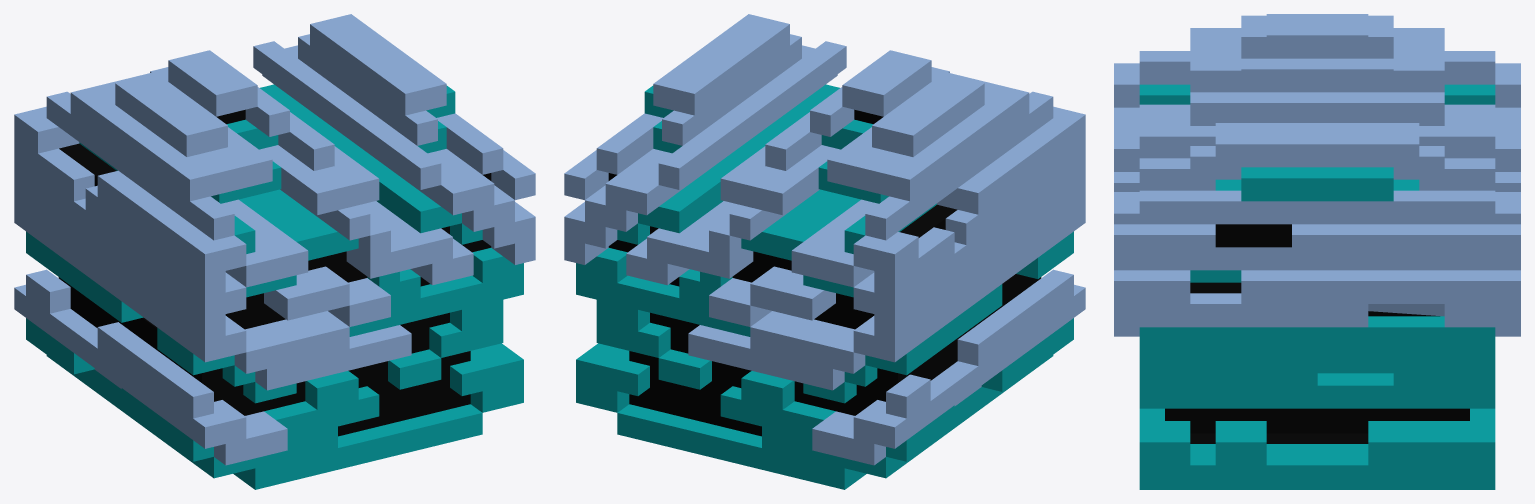
The model's file is br-m-rock2-aqua.fbx.
3 views of the same model, side by side, from view 1: azimuth 30°, elevation 25°; view 2: azimuth 150°, elevation 25°; view 3: azimuth 270°, elevation 25° (orthographic). The views are drawn at different scales.
Visible parts, largest first — view 1: rock2; view 2: rock2; view 3: rock2.
Boxes of the visible parts, box(x1,y1,x2,y2) form: rock2: box(14, 14, 535, 489); rock2: box(564, 14, 1085, 489); rock2: box(1114, 14, 1520, 489).
Bounding box in the file's own units: 2 × 2 × 2.
